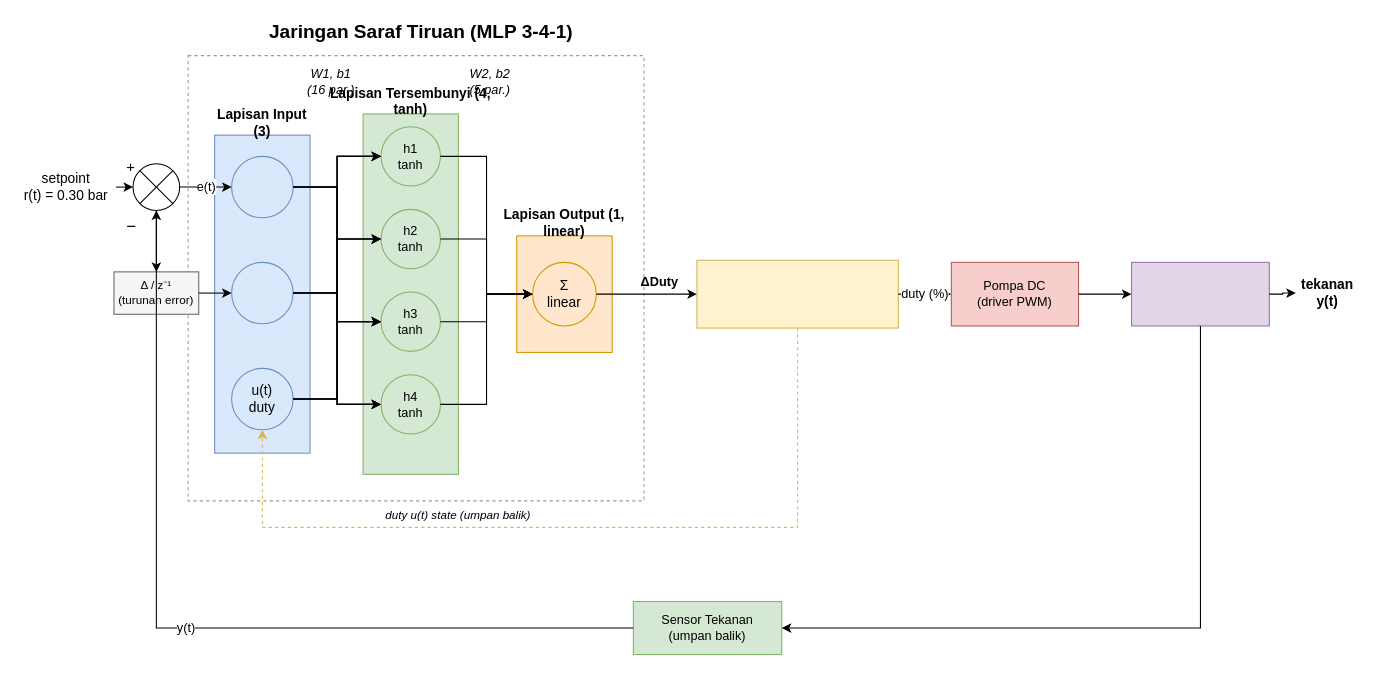
Image size: 1377x673. Some labels were removed from this diagram. The shapes that lost their labels are listed below. From the top down, each one's centre as x and y in pixels, then its label:
point (262, 186): e(t) error
point (262, 292): Δe(t) d_error
point (797, 293): Update duty u(t+1) = clamp(u(t) + ΔDuty, 70, 95)
point (1199, 293): Sistem Tekanan Air (plant)
